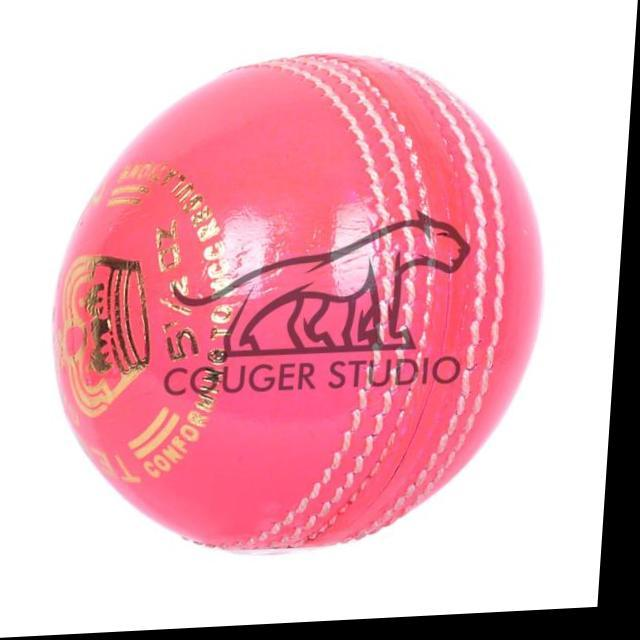cricket ball: (56, 55, 550, 559)
